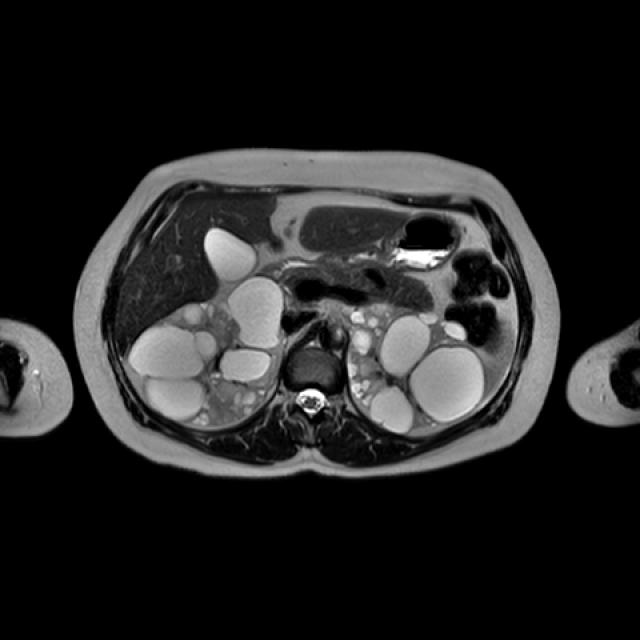sag: (128, 275, 287, 429)
sol: (348, 302, 486, 434)
